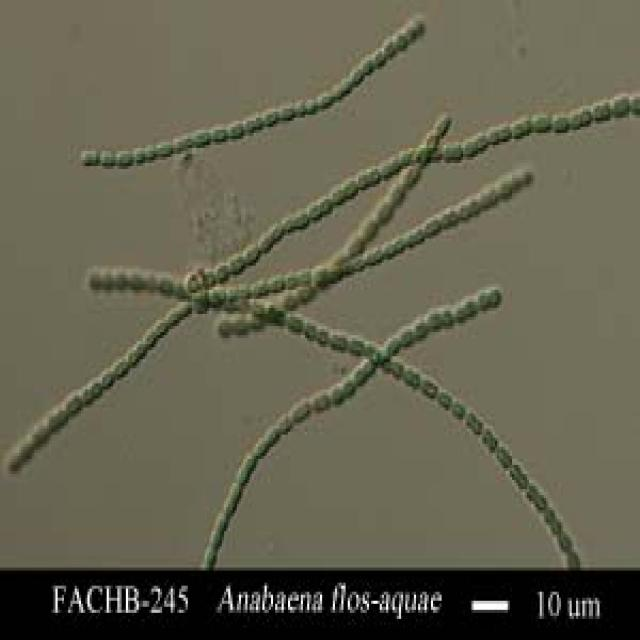Blue Green Algae: (258, 220, 282, 250), (612, 90, 632, 124), (593, 96, 617, 124), (282, 208, 307, 232), (286, 396, 309, 422), (237, 453, 256, 483), (512, 115, 535, 139), (264, 268, 286, 290), (552, 109, 572, 133), (480, 422, 497, 450), (192, 124, 209, 151), (211, 121, 228, 148), (241, 238, 260, 262), (401, 163, 420, 187), (384, 332, 403, 356), (373, 200, 392, 223), (392, 27, 410, 51), (328, 178, 344, 205), (534, 109, 552, 133), (388, 181, 406, 205), (399, 323, 416, 347), (356, 163, 371, 190), (312, 389, 328, 414), (113, 148, 132, 169), (442, 139, 461, 160), (284, 311, 303, 332), (141, 326, 160, 347), (111, 357, 130, 378), (497, 441, 510, 471), (100, 366, 115, 392), (557, 532, 576, 552), (154, 139, 172, 160), (228, 121, 246, 142), (260, 105, 278, 126), (248, 278, 266, 299), (262, 422, 280, 443), (570, 106, 584, 132), (463, 133, 478, 157), (360, 220, 380, 238), (450, 398, 465, 422), (81, 145, 98, 166), (403, 362, 420, 383), (303, 317, 316, 344), (467, 408, 480, 434), (486, 121, 502, 142), (216, 510, 230, 534), (154, 317, 170, 338), (358, 54, 376, 72), (344, 172, 356, 199), (132, 338, 150, 356), (422, 212, 438, 232), (226, 477, 239, 501), (331, 329, 344, 353), (98, 148, 115, 166), (226, 254, 243, 272), (382, 40, 397, 60), (282, 100, 294, 124), (348, 332, 360, 356), (214, 260, 228, 280), (422, 378, 436, 398), (318, 193, 331, 214), (224, 495, 237, 516), (437, 387, 450, 408), (224, 281, 239, 299), (296, 268, 312, 284), (508, 459, 520, 480), (307, 196, 318, 218), (331, 380, 341, 404), (318, 320, 328, 341)
